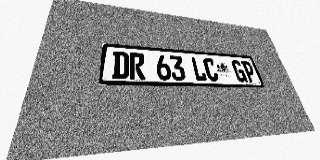3: (169, 55, 186, 81)
6: (155, 54, 172, 80)
C: (202, 58, 220, 81)
D: (112, 51, 129, 79)
G: (230, 60, 248, 82)
L: (190, 57, 208, 81)
P: (241, 61, 258, 82)
R: (129, 52, 145, 80)
